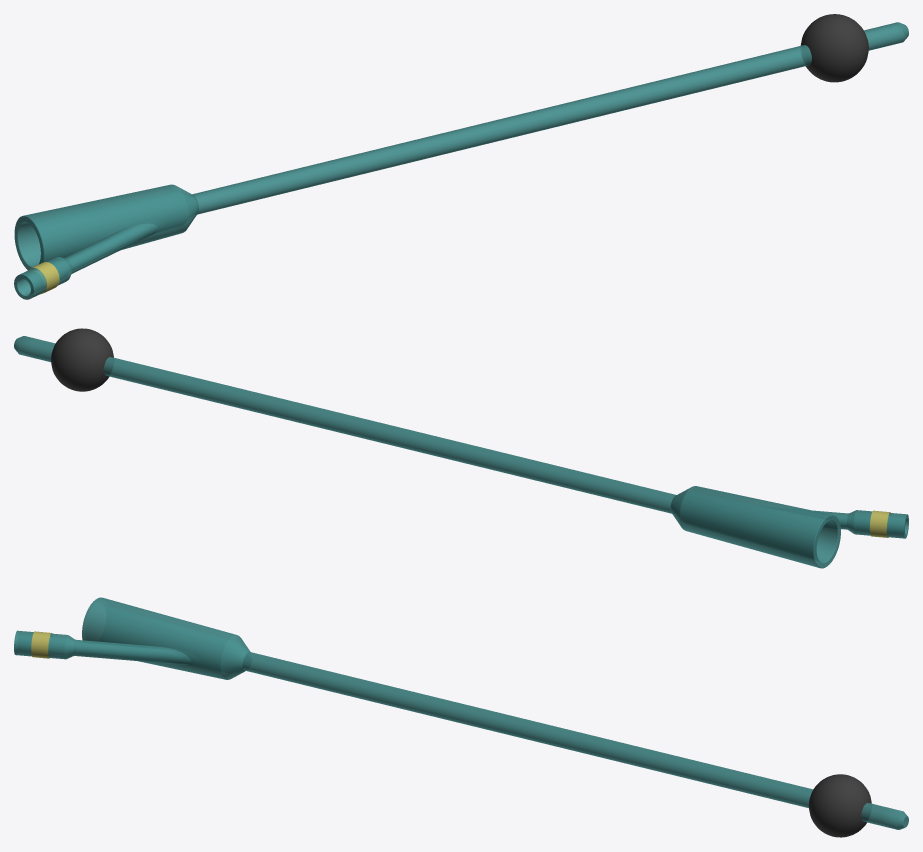
Rendered from catheter.fbx.
The picture shows the model from 3 angles, top to bottom: view 1: azimuth 30°, elevation 25°; view 2: azimuth 150°, elevation 25°; view 3: azimuth 330°, elevation 25°; orthographic projection. The views are drawn at different scales.
Parts seen in each view (by area): view 1: tube, glass; view 2: tube, glass; view 3: tube, glass.
Boxes of the visible parts, bbox=[...] form: tube: bbox=[14, 22, 908, 299]; glass: bbox=[800, 14, 868, 82]; tube: bbox=[14, 336, 908, 568]; glass: bbox=[51, 328, 113, 391]; tube: bbox=[14, 597, 908, 829]; glass: bbox=[808, 774, 871, 837].
Bounding box in the file's own units: 145 × 9.29 × 17.25.
